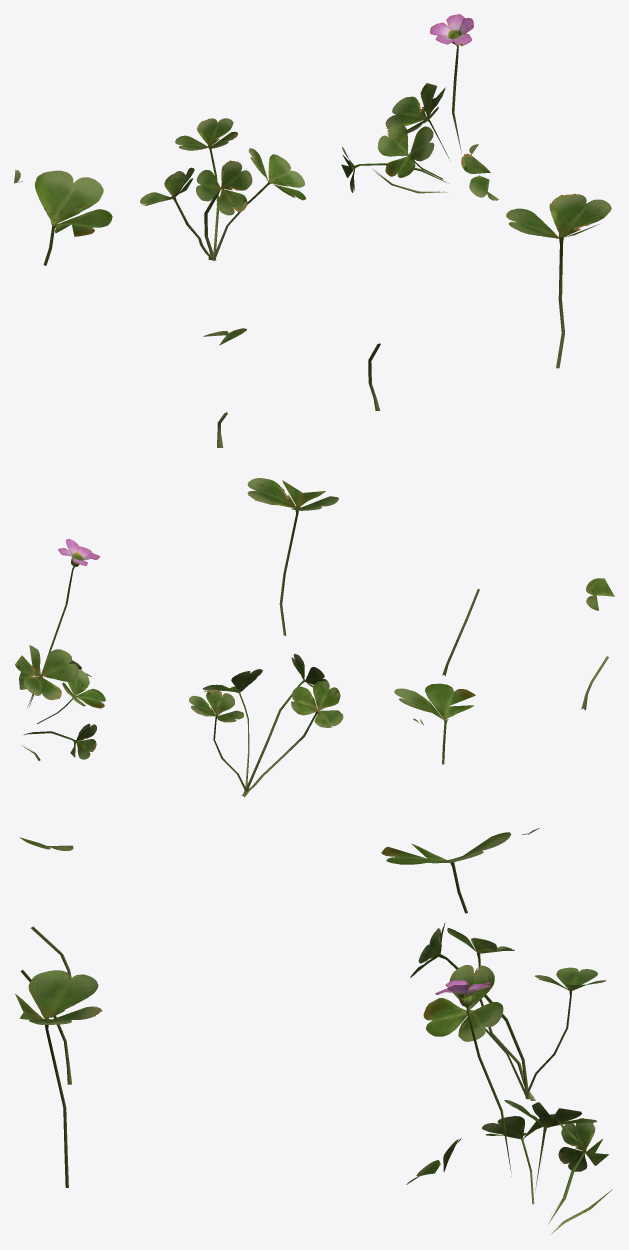
Rendered from shrub_sorrel_01.glb.
3 renders of one model, top to bottom at view 1: azimuth 30°, elevation 25°; view 2: azimuth 150°, elevation 25°; view 3: azimuth 270°, elevation 25°, orthographic. The views are drawn at different scales.
Parts seen in each view (by area): view 1: shrub_sorrel_01; view 2: shrub_sorrel_01; view 3: shrub_sorrel_01.
Part boxes in pixels (left/top/right/bottom): shrub_sorrel_01: left=14, top=14, right=611, bottom=447; shrub_sorrel_01: left=15, top=478, right=614, bottom=797; shrub_sorrel_01: left=15, top=828, right=612, bottom=1234.
Bounding box in the file's own units: 1.13 × 0.5 × 1.1.
Materials: 1 (1 with a texture image).
